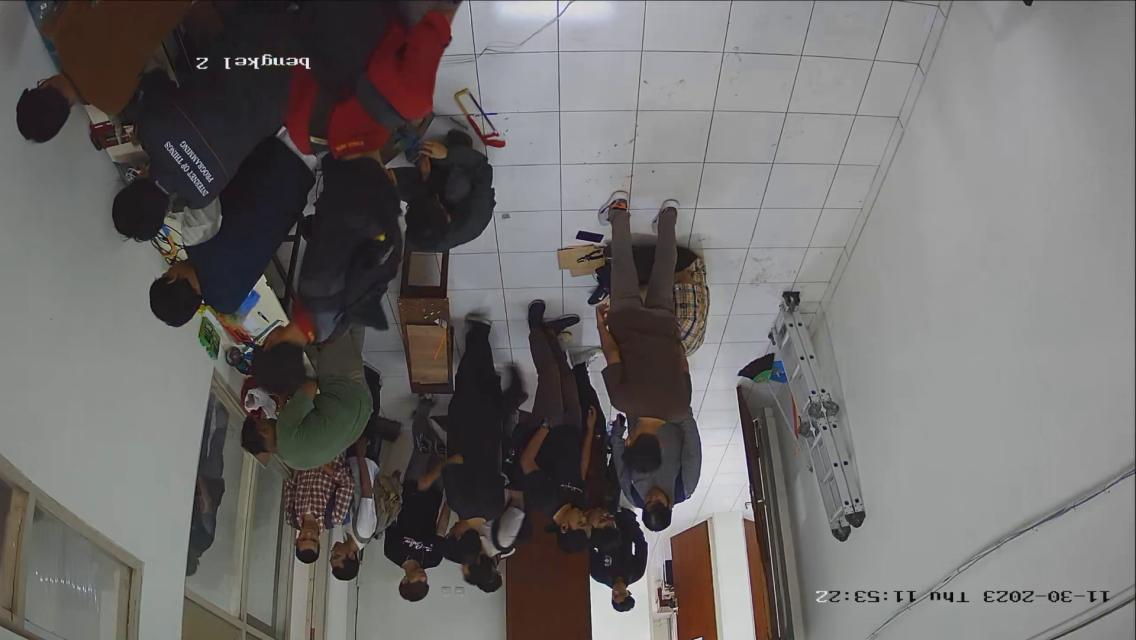Crowd: (1, 0, 470, 414), (264, 205, 700, 618)
